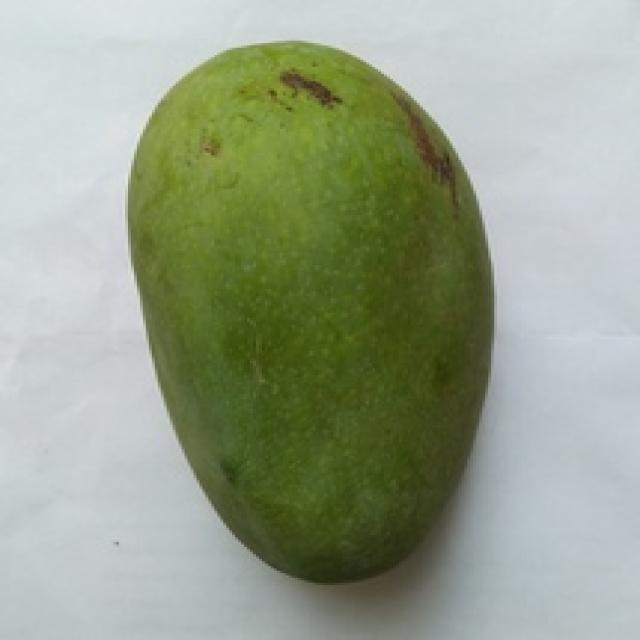Mango: (128, 43, 491, 580)
